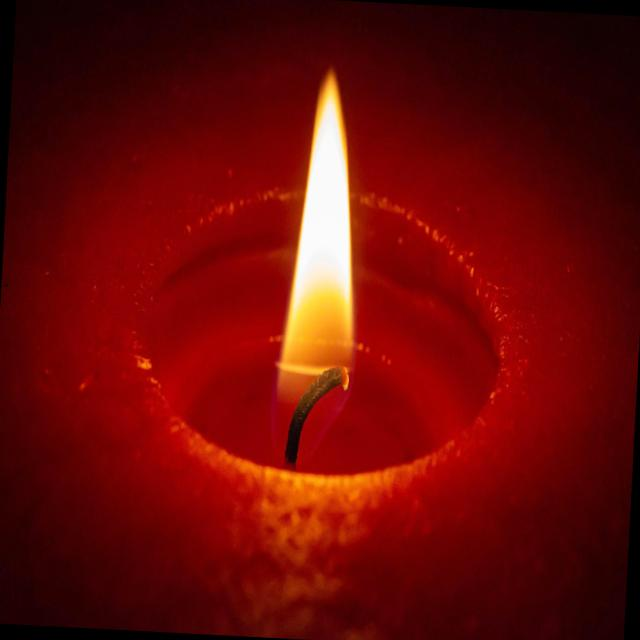Fire_Save: (276, 65, 370, 379)
